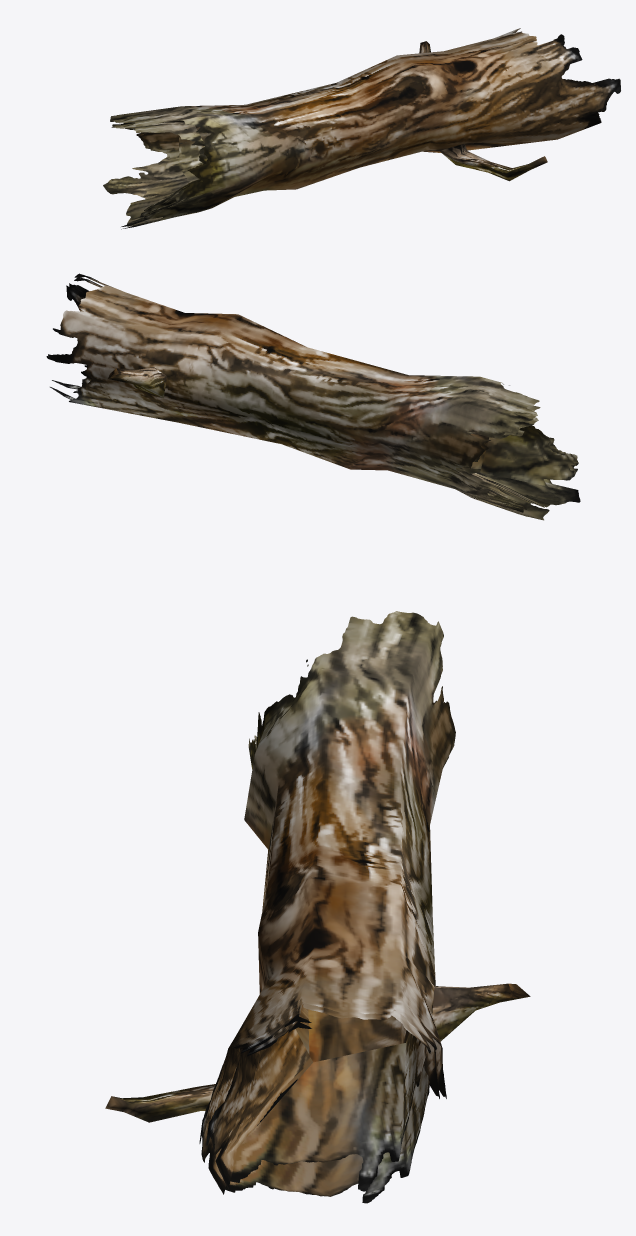
File: PRP_TreeFallenA.FBX
3 views of the same model, one above another, from view 1: azimuth 30°, elevation 25°; view 2: azimuth 150°, elevation 25°; view 3: azimuth 270°, elevation 25° (orthographic). The views are drawn at different scales.
Parts seen in each view (by area): view 1: PRP_TreeFallenA; view 2: PRP_TreeFallenA; view 3: PRP_TreeFallenA.
Part boxes in pixels (x1,y1,x2,y2): PRP_TreeFallenA: [103, 28, 620, 229]; PRP_TreeFallenA: [46, 273, 580, 520]; PRP_TreeFallenA: [105, 611, 530, 1203].
Size of the model in its own units: 997 by 183 by 345.
